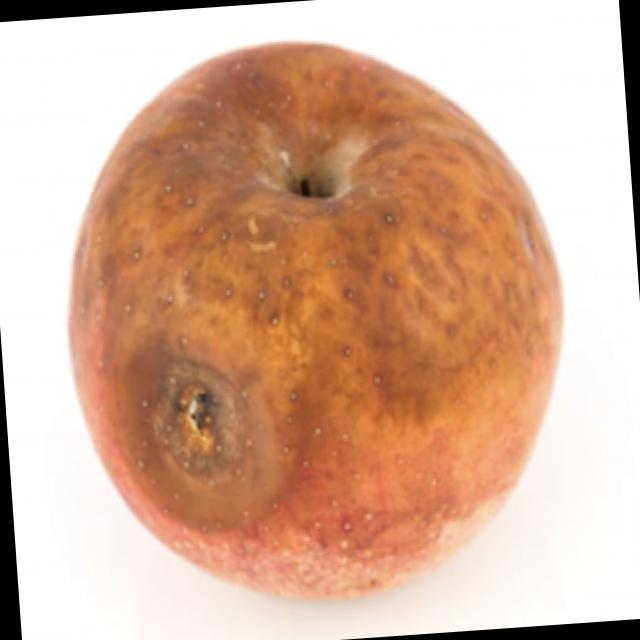rotten_apple: (46, 18, 584, 622)
